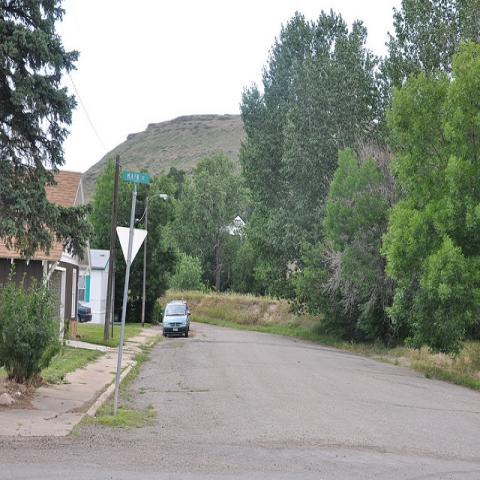car: (160, 302, 191, 338), (78, 301, 92, 323), (172, 299, 192, 313)
